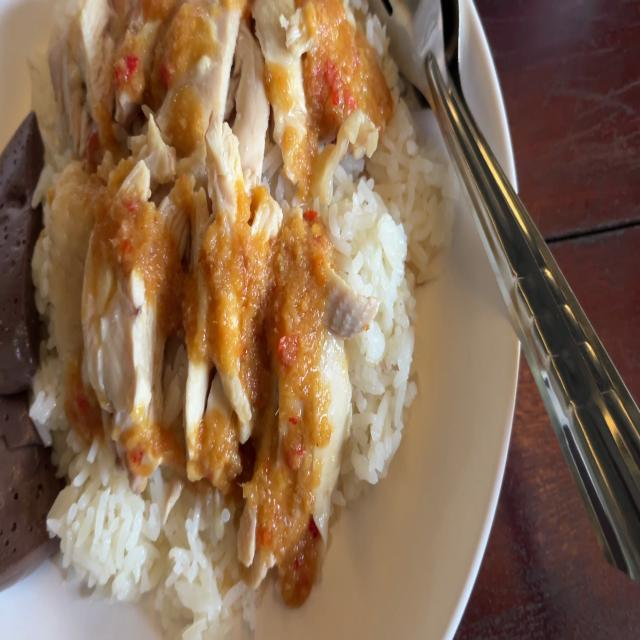boiled_chicken: (76, 15, 354, 501)
boiled_chicken_blood_jelly: (0, 341, 60, 568), (0, 97, 44, 389)
chicken_rice: (0, 0, 456, 640)
